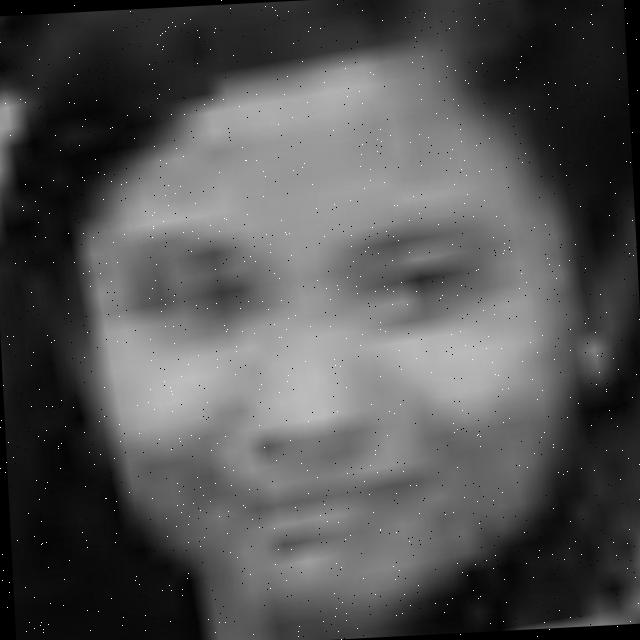Happiness: (49, 22, 621, 640)
